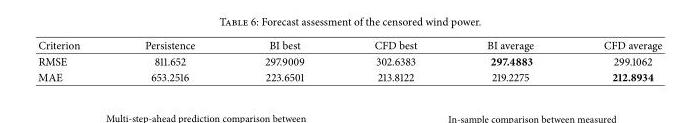table: (37, 37, 661, 84)
table column: (111, 37, 229, 84), (451, 37, 568, 84), (338, 37, 451, 84), (229, 37, 338, 84), (568, 37, 661, 84), (37, 37, 111, 84)
table column header: (37, 37, 661, 52)
table row: (37, 52, 661, 68), (37, 68, 661, 84), (37, 37, 661, 52)
